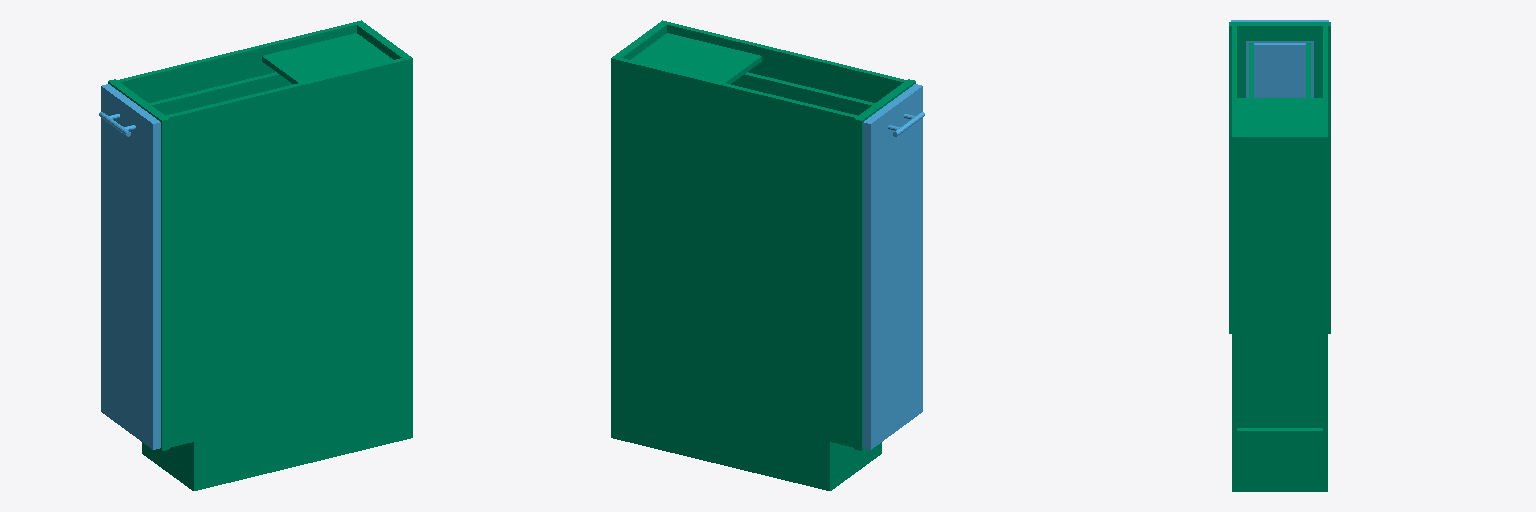
The robot description file, URDF, robot "partnet_19c79a42f68d7d444da5feafe6f1c8fc":
<?xml version="1.0" ?>
<robot name="partnet_19c79a42f68d7d444da5feafe6f1c8fc">
	<link name="base"/>
	<link name="link_0">
		<visual name="handle-5">
			<origin xyz="-0.18860311018249554 -0.7399359941482543 -0.5525102013147046"/>
			<geometry>
				<mesh filename="textured_objs/original-45.obj"/>
			</geometry>
		</visual>
		<visual name="handle-5">
			<origin xyz="-0.18860311018249554 -0.7399359941482543 -0.5525102013147046"/>
			<geometry>
				<mesh filename="textured_objs/original-43.obj"/>
			</geometry>
		</visual>
		<visual name="handle-5">
			<origin xyz="-0.18860311018249554 -0.7399359941482543 -0.5525102013147046"/>
			<geometry>
				<mesh filename="textured_objs/original-44.obj"/>
			</geometry>
		</visual>
		<visual name="cabinet_door_surface-46">
			<origin xyz="-0.18860311018249554 -0.7399359941482543 -0.5525102013147046"/>
			<geometry>
				<mesh filename="textured_objs/original-46.obj"/>
			</geometry>
		</visual>
		<visual name="cabinet_door_surface-46">
			<origin xyz="-0.18860311018249554 -0.7399359941482543 -0.5525102013147046"/>
			<geometry>
				<mesh filename="textured_objs/original-29.obj"/>
			</geometry>
		</visual>
		<collision>
			<origin xyz="-0.18860311018249554 -0.7399359941482543 -0.5525102013147046"/>
			<geometry>
				<mesh filename="textured_objs/original-45.obj"/>
			</geometry>
		</collision>
		<collision>
			<origin xyz="-0.18860311018249554 -0.7399359941482543 -0.5525102013147046"/>
			<geometry>
				<mesh filename="textured_objs/original-43.obj"/>
			</geometry>
		</collision>
		<collision>
			<origin xyz="-0.18860311018249554 -0.7399359941482543 -0.5525102013147046"/>
			<geometry>
				<mesh filename="textured_objs/original-44.obj"/>
			</geometry>
		</collision>
		<collision>
			<origin xyz="-0.18860311018249554 -0.7399359941482543 -0.5525102013147046"/>
			<geometry>
				<mesh filename="textured_objs/original-46.obj"/>
			</geometry>
		</collision>
		<collision>
			<origin xyz="-0.18860311018249554 -0.7399359941482543 -0.5525102013147046"/>
			<geometry>
				<mesh filename="textured_objs/original-29.obj"/>
			</geometry>
		</collision>
	</link>
	<joint name="joint_0" type="revolute">
		<origin xyz="0.18860311018249554 0.7399359941482543 0.5525102013147046"/>
		<axis xyz="0 0.9999999999999999 0"/>
		<child link="link_0"/>
		<parent link="link_1"/>
		<limit lower="0.0" upper="1.5707963267948966"/>
	</joint>
	<link name="link_1">
		<visual name="shelf-20">
			<origin xyz="0 0 0"/>
			<geometry>
				<mesh filename="textured_objs/original-23.obj"/>
			</geometry>
		</visual>
		<visual name="shelf-21">
			<origin xyz="0 0 0"/>
			<geometry>
				<mesh filename="textured_objs/original-34.obj"/>
			</geometry>
		</visual>
		<visual name="shelf-22">
			<origin xyz="0 0 0"/>
			<geometry>
				<mesh filename="textured_objs/original-38.obj"/>
			</geometry>
		</visual>
		<visual name="vertical_side_panel-7">
			<origin xyz="0 0 0"/>
			<geometry>
				<mesh filename="textured_objs/original-15.obj"/>
			</geometry>
		</visual>
		<visual name="vertical_side_panel-8">
			<origin xyz="0 0 0"/>
			<geometry>
				<mesh filename="textured_objs/original-11.obj"/>
			</geometry>
		</visual>
		<visual name="back_panel-9">
			<origin xyz="0 0 0"/>
			<geometry>
				<mesh filename="textured_objs/original-5.obj"/>
			</geometry>
		</visual>
		<visual name="bottom_panel-10">
			<origin xyz="0 0 0"/>
			<geometry>
				<mesh filename="textured_objs/original-2.obj"/>
			</geometry>
		</visual>
		<visual name="frame_horizontal_bar-23">
			<origin xyz="0 0 0"/>
			<geometry>
				<mesh filename="textured_objs/original-28.obj"/>
			</geometry>
		</visual>
		<visual name="frame_horizontal_bar-24">
			<origin xyz="0 0 0"/>
			<geometry>
				<mesh filename="textured_objs/original-39.obj"/>
			</geometry>
		</visual>
		<visual name="frame_horizontal_bar-25">
			<origin xyz="0 0 0"/>
			<geometry>
				<mesh filename="textured_objs/original-32.obj"/>
			</geometry>
		</visual>
		<visual name="frame_horizontal_bar-26">
			<origin xyz="0 0 0"/>
			<geometry>
				<mesh filename="textured_objs/original-33.obj"/>
			</geometry>
		</visual>
		<visual name="frame_horizontal_bar-27">
			<origin xyz="0 0 0"/>
			<geometry>
				<mesh filename="textured_objs/original-36.obj"/>
			</geometry>
		</visual>
		<visual name="frame_horizontal_bar-28">
			<origin xyz="0 0 0"/>
			<geometry>
				<mesh filename="textured_objs/original-37.obj"/>
			</geometry>
		</visual>
		<visual name="frame_horizontal_bar-29">
			<origin xyz="0 0 0"/>
			<geometry>
				<mesh filename="textured_objs/original-22.obj"/>
			</geometry>
		</visual>
		<visual name="frame_horizontal_bar-30">
			<origin xyz="0 0 0"/>
			<geometry>
				<mesh filename="textured_objs/original-40.obj"/>
			</geometry>
		</visual>
		<visual name="frame_vertical_bar-31">
			<origin xyz="0 0 0"/>
			<geometry>
				<mesh filename="textured_objs/original-27.obj"/>
			</geometry>
		</visual>
		<visual name="frame_vertical_bar-32">
			<origin xyz="0 0 0"/>
			<geometry>
				<mesh filename="textured_objs/original-24.obj"/>
			</geometry>
		</visual>
		<visual name="frame_horizontal_bar-33">
			<origin xyz="0 0 0"/>
			<geometry>
				<mesh filename="textured_objs/original-8.obj"/>
			</geometry>
		</visual>
		<visual name="frame_horizontal_bar-34">
			<origin xyz="0 0 0"/>
			<geometry>
				<mesh filename="textured_objs/original-6.obj"/>
			</geometry>
		</visual>
		<visual name="frame_vertical_bar-35">
			<origin xyz="0 0 0"/>
			<geometry>
				<mesh filename="textured_objs/original-3.obj"/>
			</geometry>
		</visual>
		<visual name="frame_vertical_bar-36">
			<origin xyz="0 0 0"/>
			<geometry>
				<mesh filename="textured_objs/original-7.obj"/>
			</geometry>
		</visual>
		<visual name="frame_vertical_bar-37">
			<origin xyz="0 0 0"/>
			<geometry>
				<mesh filename="textured_objs/original-10.obj"/>
			</geometry>
		</visual>
		<visual name="frame_vertical_bar-38">
			<origin xyz="0 0 0"/>
			<geometry>
				<mesh filename="textured_objs/original-14.obj"/>
			</geometry>
		</visual>
		<visual name="back_panel-39">
			<origin xyz="0 0 0"/>
			<geometry>
				<mesh filename="textured_objs/original-30.obj"/>
			</geometry>
		</visual>
		<visual name="top_panel-40">
			<origin xyz="0 0 0"/>
			<geometry>
				<mesh filename="textured_objs/original-19.obj"/>
			</geometry>
		</visual>
		<visual name="frame_vertical_bar-41">
			<origin xyz="0 0 0"/>
			<geometry>
				<mesh filename="textured_objs/original-26.obj"/>
			</geometry>
		</visual>
		<visual name="frame_vertical_bar-42">
			<origin xyz="0 0 0"/>
			<geometry>
				<mesh filename="textured_objs/original-25.obj"/>
			</geometry>
		</visual>
		<visual name="other_leaf-44">
			<origin xyz="0 0 0"/>
			<geometry>
				<mesh filename="textured_objs/original-47.obj"/>
			</geometry>
		</visual>
		<visual name="frame_horizontal_bar-47">
			<origin xyz="0 0 0"/>
			<geometry>
				<mesh filename="textured_objs/original-4.obj"/>
			</geometry>
		</visual>
		<visual name="base_side_panel-16">
			<origin xyz="0 0 0"/>
			<geometry>
				<mesh filename="textured_objs/original-12.obj"/>
			</geometry>
		</visual>
		<visual name="base_side_panel-17">
			<origin xyz="0 0 0"/>
			<geometry>
				<mesh filename="textured_objs/original-17.obj"/>
			</geometry>
		</visual>
		<visual name="base_side_panel-18">
			<origin xyz="0 0 0"/>
			<geometry>
				<mesh filename="textured_objs/original-16.obj"/>
			</geometry>
		</visual>
		<visual name="base_side_panel-19">
			<origin xyz="0 0 0"/>
			<geometry>
				<mesh filename="textured_objs/original-18.obj"/>
			</geometry>
		</visual>
		<collision>
			<origin xyz="0 0 0"/>
			<geometry>
				<mesh filename="textured_objs/original-23.obj"/>
			</geometry>
		</collision>
		<collision>
			<origin xyz="0 0 0"/>
			<geometry>
				<mesh filename="textured_objs/original-34.obj"/>
			</geometry>
		</collision>
		<collision>
			<origin xyz="0 0 0"/>
			<geometry>
				<mesh filename="textured_objs/original-38.obj"/>
			</geometry>
		</collision>
		<collision>
			<origin xyz="0 0 0"/>
			<geometry>
				<mesh filename="textured_objs/original-15.obj"/>
			</geometry>
		</collision>
		<collision>
			<origin xyz="0 0 0"/>
			<geometry>
				<mesh filename="textured_objs/original-11.obj"/>
			</geometry>
		</collision>
		<collision>
			<origin xyz="0 0 0"/>
			<geometry>
				<mesh filename="textured_objs/original-5.obj"/>
			</geometry>
		</collision>
		<collision>
			<origin xyz="0 0 0"/>
			<geometry>
				<mesh filename="textured_objs/original-2.obj"/>
			</geometry>
		</collision>
		<collision>
			<origin xyz="0 0 0"/>
			<geometry>
				<mesh filename="textured_objs/original-28.obj"/>
			</geometry>
		</collision>
		<collision>
			<origin xyz="0 0 0"/>
			<geometry>
				<mesh filename="textured_objs/original-39.obj"/>
			</geometry>
		</collision>
		<collision>
			<origin xyz="0 0 0"/>
			<geometry>
				<mesh filename="textured_objs/original-32.obj"/>
			</geometry>
		</collision>
		<collision>
			<origin xyz="0 0 0"/>
			<geometry>
				<mesh filename="textured_objs/original-33.obj"/>
			</geometry>
		</collision>
		<collision>
			<origin xyz="0 0 0"/>
			<geometry>
				<mesh filename="textured_objs/original-36.obj"/>
			</geometry>
		</collision>
		<collision>
			<origin xyz="0 0 0"/>
			<geometry>
				<mesh filename="textured_objs/original-37.obj"/>
			</geometry>
		</collision>
		<collision>
			<origin xyz="0 0 0"/>
			<geometry>
				<mesh filename="textured_objs/original-22.obj"/>
			</geometry>
		</collision>
		<collision>
			<origin xyz="0 0 0"/>
			<geometry>
				<mesh filename="textured_objs/original-40.obj"/>
			</geometry>
		</collision>
		<collision>
			<origin xyz="0 0 0"/>
			<geometry>
				<mesh filename="textured_objs/original-27.obj"/>
			</geometry>
		</collision>
		<collision>
			<origin xyz="0 0 0"/>
			<geometry>
				<mesh filename="textured_objs/original-24.obj"/>
			</geometry>
		</collision>
		<collision>
			<origin xyz="0 0 0"/>
			<geometry>
				<mesh filename="textured_objs/original-8.obj"/>
			</geometry>
		</collision>
		<collision>
			<origin xyz="0 0 0"/>
			<geometry>
				<mesh filename="textured_objs/original-6.obj"/>
			</geometry>
		</collision>
		<collision>
			<origin xyz="0 0 0"/>
			<geometry>
				<mesh filename="textured_objs/original-3.obj"/>
			</geometry>
		</collision>
		<collision>
			<origin xyz="0 0 0"/>
			<geometry>
				<mesh filename="textured_objs/original-7.obj"/>
			</geometry>
		</collision>
		<collision>
			<origin xyz="0 0 0"/>
			<geometry>
				<mesh filename="textured_objs/original-10.obj"/>
			</geometry>
		</collision>
		<collision>
			<origin xyz="0 0 0"/>
			<geometry>
				<mesh filename="textured_objs/original-14.obj"/>
			</geometry>
		</collision>
		<collision>
			<origin xyz="0 0 0"/>
			<geometry>
				<mesh filename="textured_objs/original-30.obj"/>
			</geometry>
		</collision>
		<collision>
			<origin xyz="0 0 0"/>
			<geometry>
				<mesh filename="textured_objs/original-19.obj"/>
			</geometry>
		</collision>
		<collision>
			<origin xyz="0 0 0"/>
			<geometry>
				<mesh filename="textured_objs/original-26.obj"/>
			</geometry>
		</collision>
		<collision>
			<origin xyz="0 0 0"/>
			<geometry>
				<mesh filename="textured_objs/original-25.obj"/>
			</geometry>
		</collision>
		<collision>
			<origin xyz="0 0 0"/>
			<geometry>
				<mesh filename="textured_objs/original-47.obj"/>
			</geometry>
		</collision>
		<collision>
			<origin xyz="0 0 0"/>
			<geometry>
				<mesh filename="textured_objs/original-4.obj"/>
			</geometry>
		</collision>
		<collision>
			<origin xyz="0 0 0"/>
			<geometry>
				<mesh filename="textured_objs/original-12.obj"/>
			</geometry>
		</collision>
		<collision>
			<origin xyz="0 0 0"/>
			<geometry>
				<mesh filename="textured_objs/original-17.obj"/>
			</geometry>
		</collision>
		<collision>
			<origin xyz="0 0 0"/>
			<geometry>
				<mesh filename="textured_objs/original-16.obj"/>
			</geometry>
		</collision>
		<collision>
			<origin xyz="0 0 0"/>
			<geometry>
				<mesh filename="textured_objs/original-18.obj"/>
			</geometry>
		</collision>
	</link>
	<joint name="joint_1" type="fixed">
		<origin rpy="1.570796326794897 0 -1.570796326794897" xyz="0 0 0"/>
		<child link="link_1"/>
		<parent link="base"/>
	</joint>
</robot>

--- Render facts (derived) ---
Views: 3 orthographic renders of the robot side by side, from view 1: azimuth 30°, elevation 25°; view 2: azimuth 150°, elevation 25°; view 3: azimuth 270°, elevation 25°.
Model partnet_19c79a42f68d7d444da5feafe6f1c8fc with 3 links and 2 joints (1 revolute, 1 fixed), rooted at base, posed all joints at 0.
Visible links, largest first — view 1: link_1, link_0; view 2: link_1, link_0; view 3: link_1, link_0.
Boxes of the visible links, left/top/right/bottom form: link_1: left=108, top=20, right=412, bottom=490; link_0: left=99, top=84, right=160, bottom=449; link_1: left=611, top=20, right=915, bottom=490; link_0: left=863, top=84, right=924, bottom=449; link_1: left=1229, top=22, right=1330, bottom=491; link_0: left=1231, top=20, right=1328, bottom=97.
Bounding box of the posed robot: 1.2 × 0.4131 × 1.58 m (x, y, z).
Meshes: 38 distinct files referenced, 38 mesh visuals loaded (38 OBJ).
